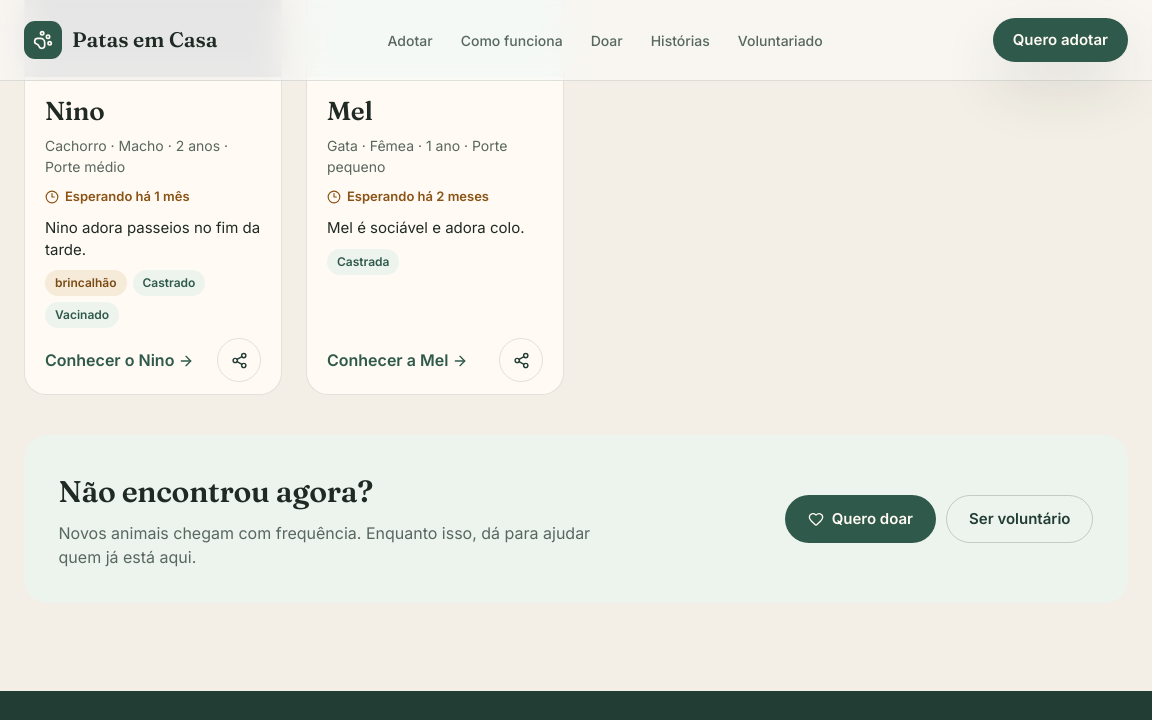
Test case: sharing copies a link that opens the animal and confirms it
This screenshot has width=1152, height=720.
(page scrolled)
What coordinates should you click on to do the following:
click the button named "Compartilhar Mel"
I would click on:
 (521, 360)
Its box is x1=499 y1=338 x2=543 y2=382.
(page scrolled)
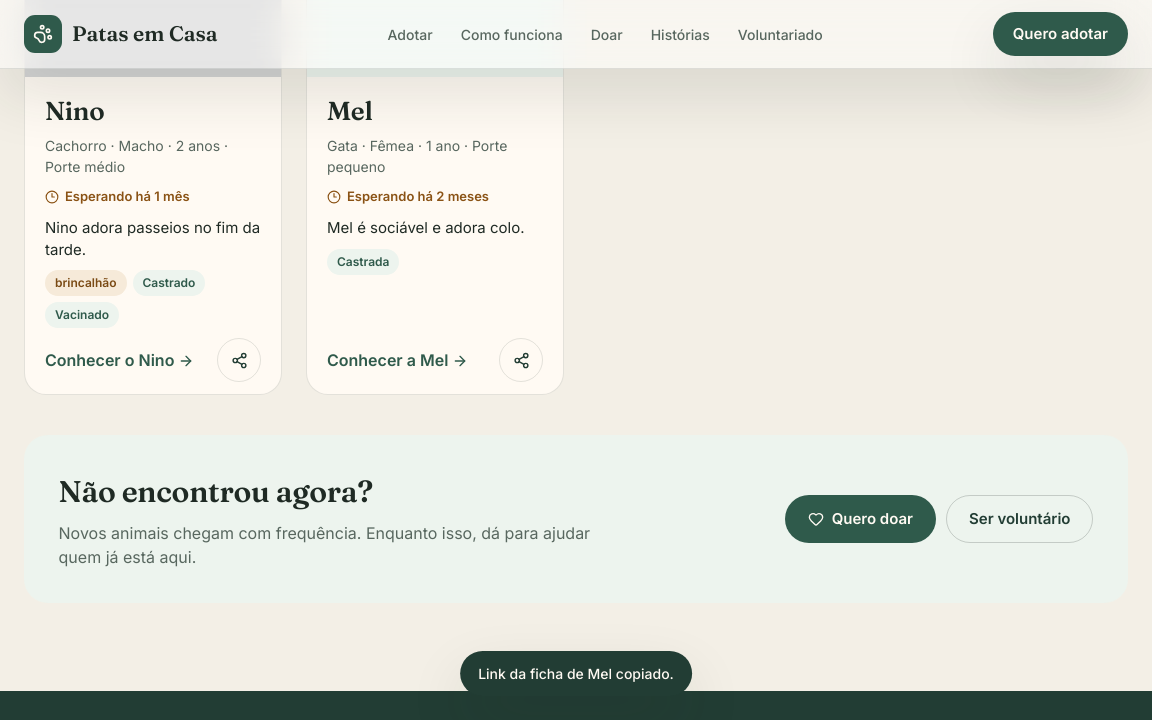
Result: the text "Link da ficha de Mel copiado." is shown at x1=460 y1=651 x2=692 y2=696
